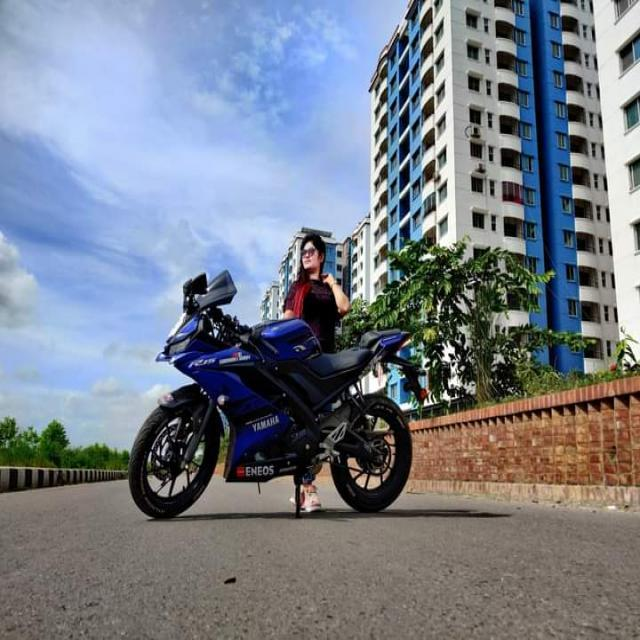No helmet: (300, 237, 330, 275)
